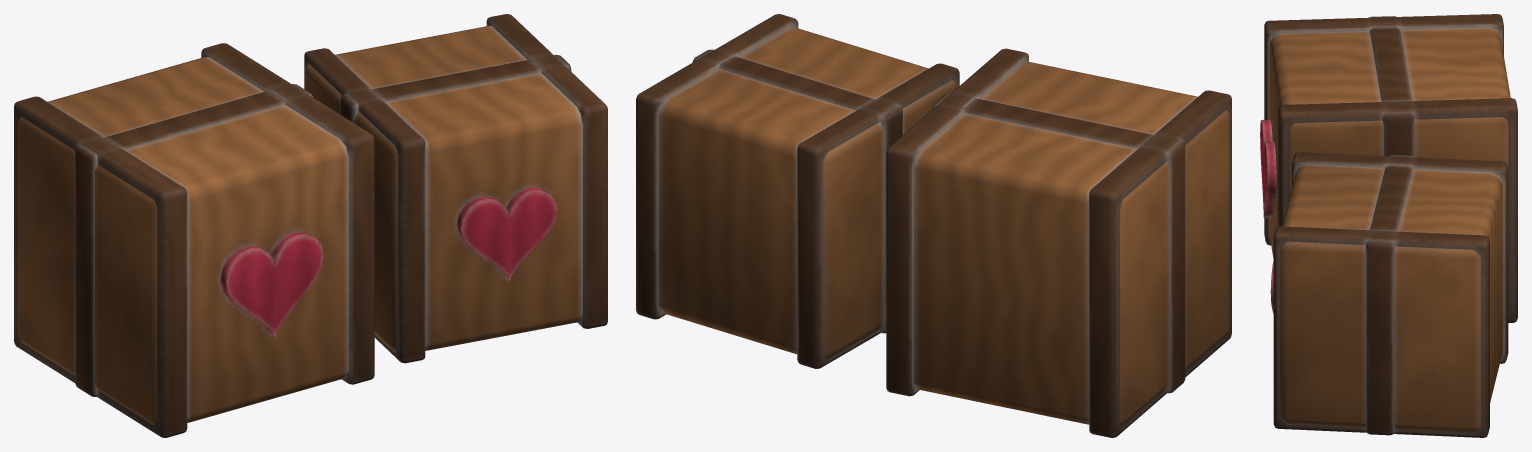
File: sd_obstacle_crate.glb
3 renders of one model, left to right at view 1: azimuth 30°, elevation 25°; view 2: azimuth 150°, elevation 25°; view 3: azimuth 270°, elevation 25°, orthographic. The views are drawn at different scales.
Parts seen in each view (by area): view 1: sd_obstacle_crate; view 2: sd_obstacle_crate; view 3: sd_obstacle_crate.
Boxes of the visible parts, x1,y1,x2,y2 form: sd_obstacle_crate: [14, 14, 607, 437]; sd_obstacle_crate: [636, 14, 1231, 437]; sd_obstacle_crate: [1260, 14, 1517, 437].
Bounding box in the file's own units: 2.17 × 1.03 × 1.11.
3 materials, 3 textured.
